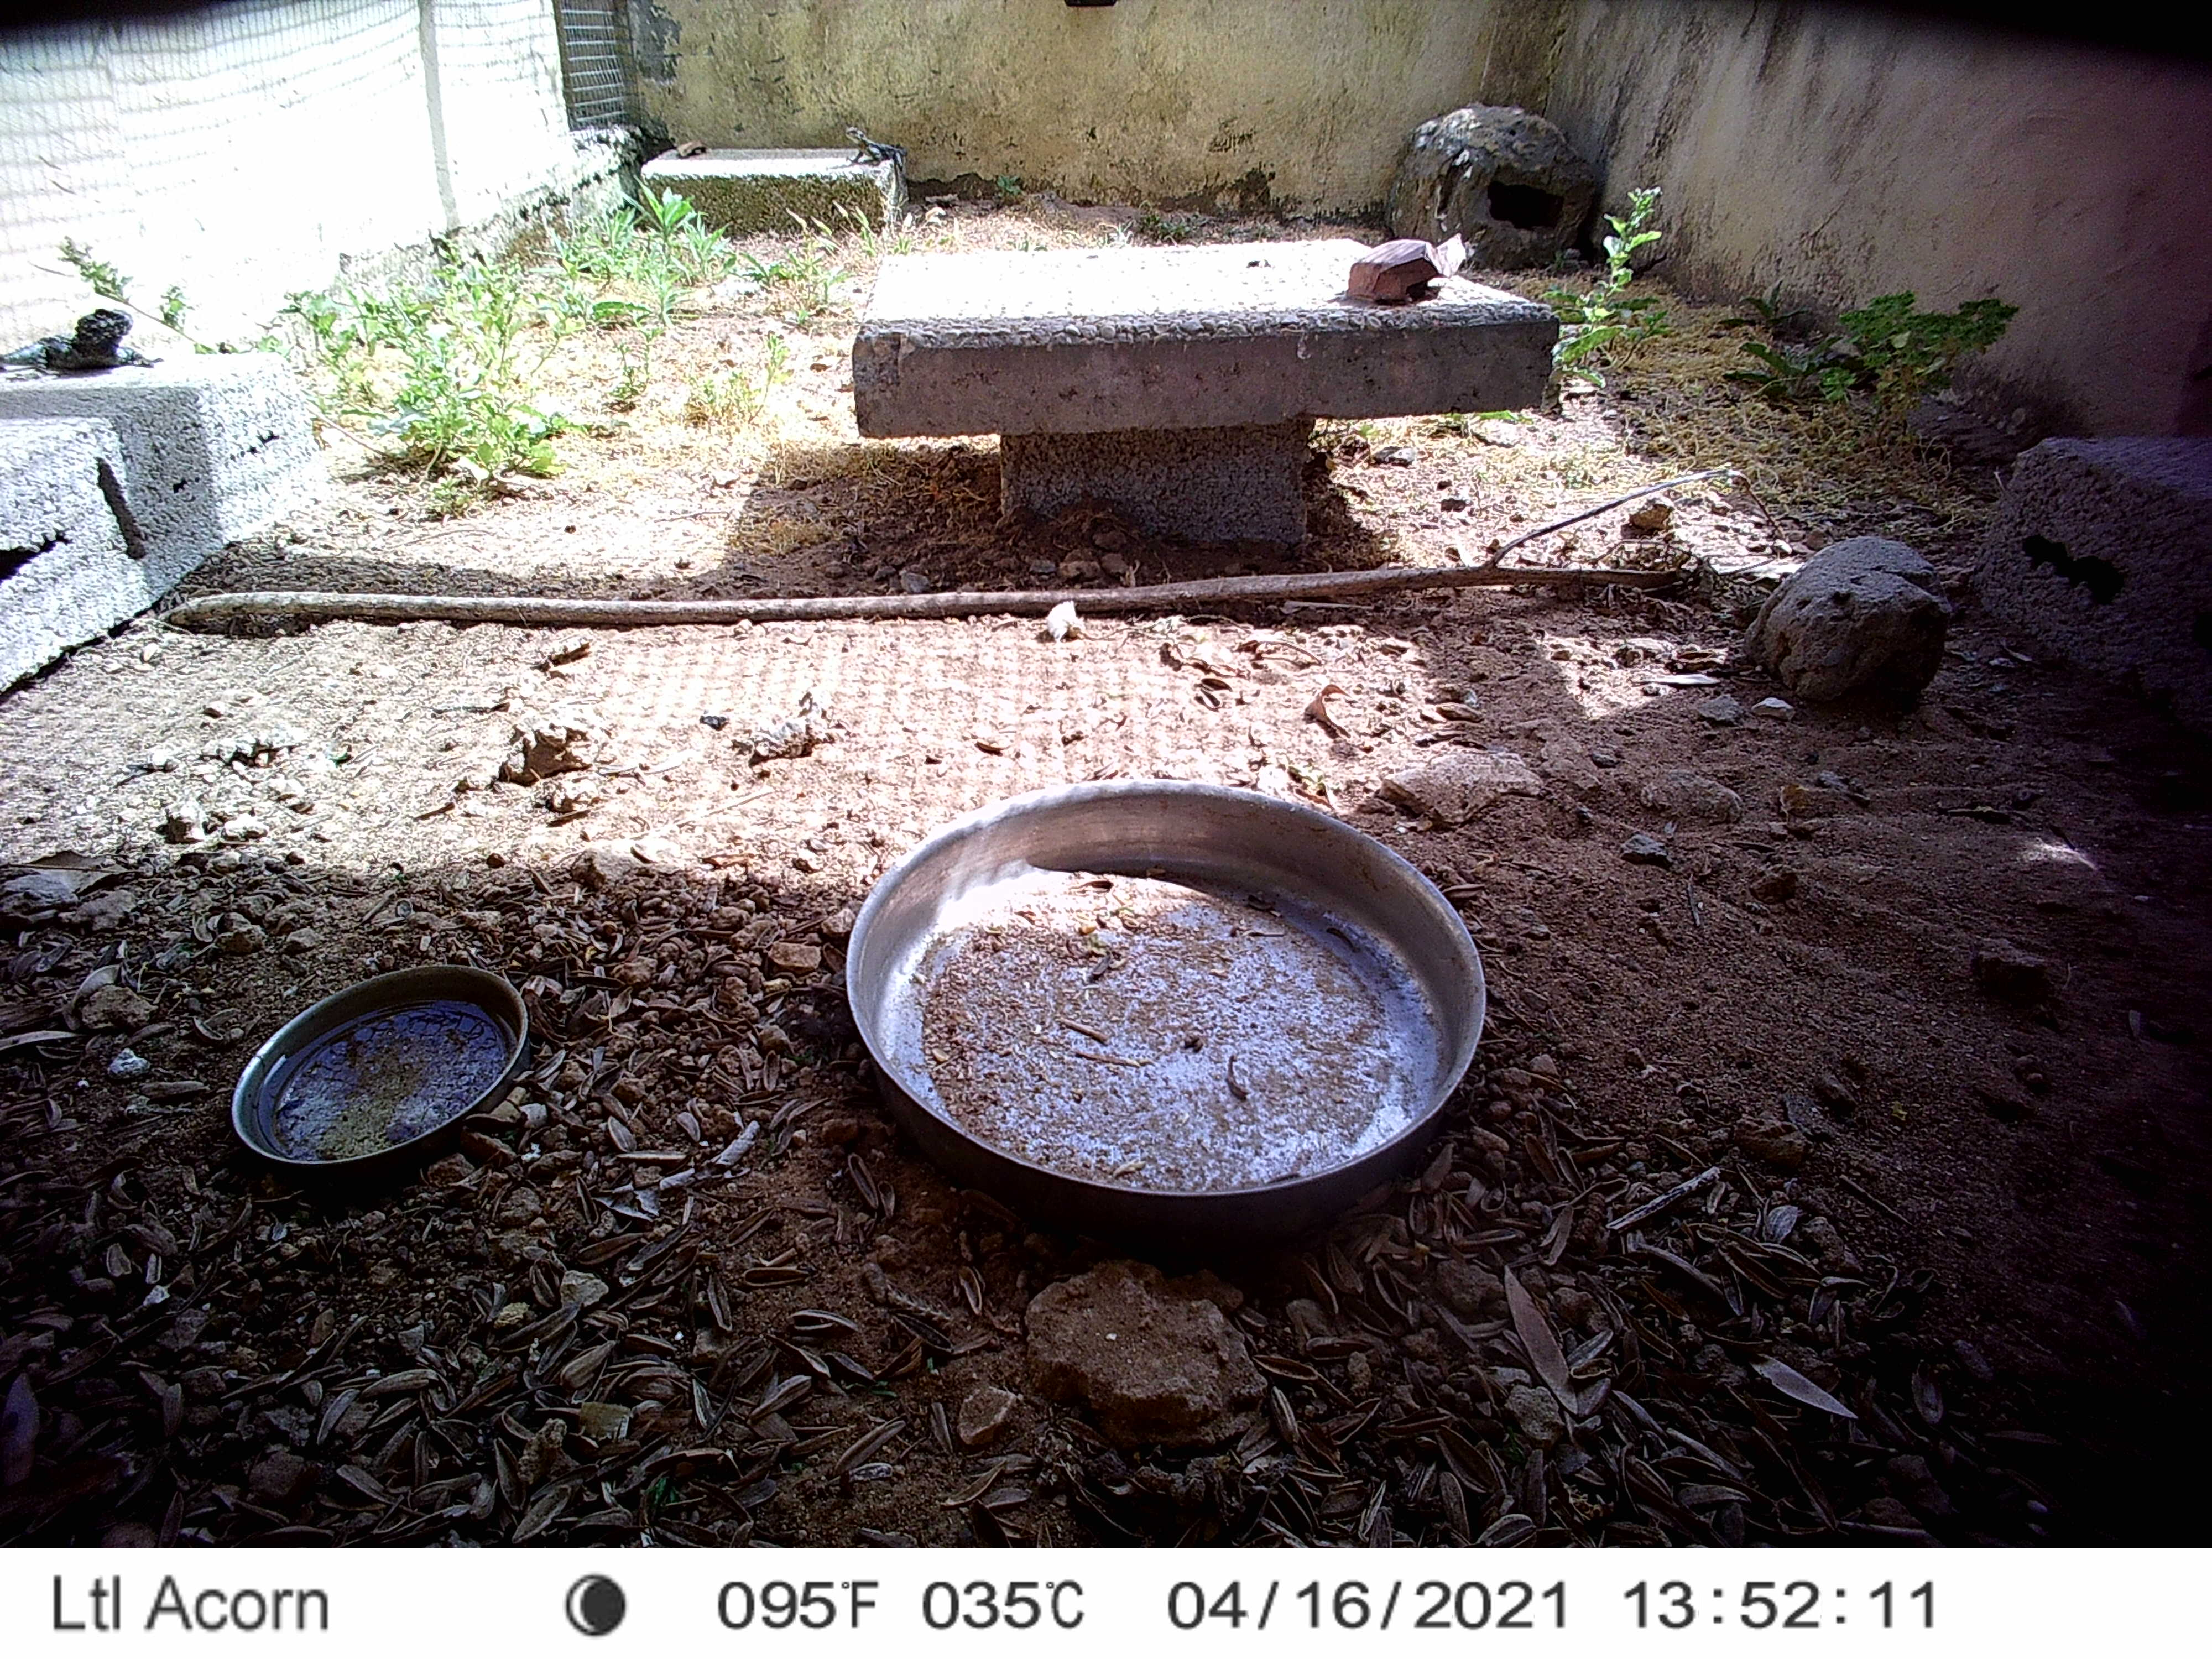lizard: (0, 305, 167, 383), (840, 120, 914, 173)
